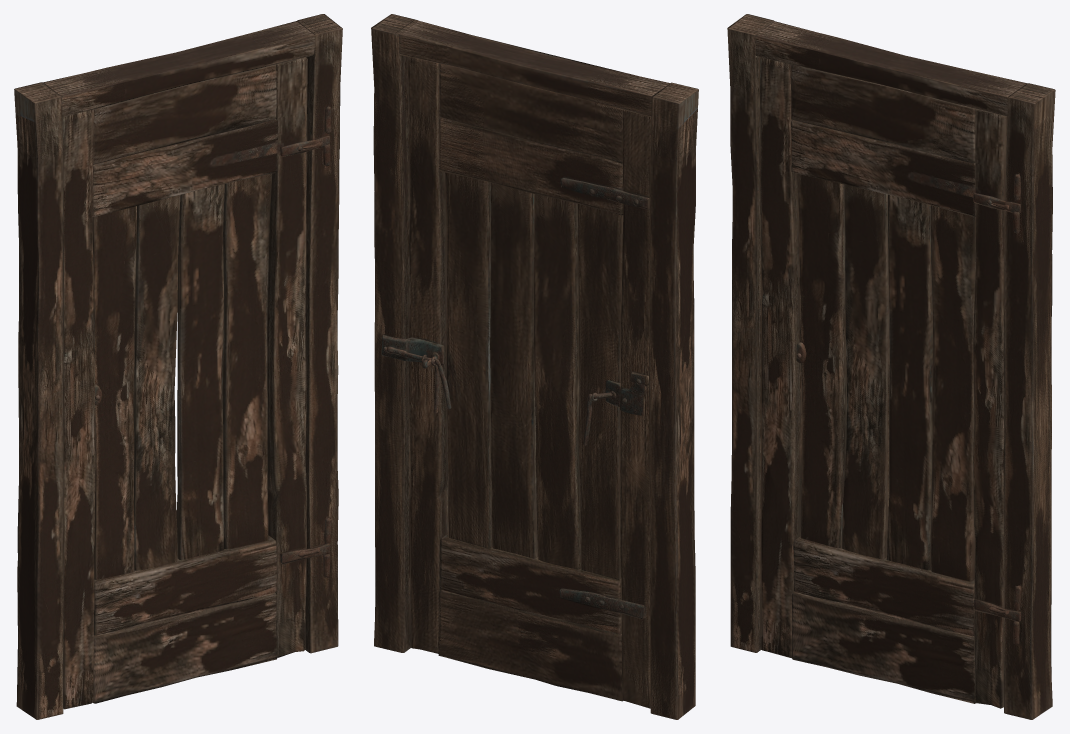
Rendered from Meshy_AI_a_shabby_wooden_door_0903105805_texture.glb.
The picture shows the model from 3 angles, left to right: view 1: azimuth 30°, elevation 25°; view 2: azimuth 150°, elevation 25°; view 3: azimuth 330°, elevation 25°; orthographic projection.
Parts seen in each view (by area): view 1: mesh_node; view 2: mesh_node; view 3: mesh_node.
Boxes of the visible parts, left/top/right/bottom form: mesh_node: left=14, top=14, right=342, bottom=719; mesh_node: left=371, top=14, right=698, bottom=719; mesh_node: left=727, top=14, right=1055, bottom=719.
Bounding box in the file's own units: 0.5254 × 1 × 0.105.
Materials: 1 (1 with a texture image).
